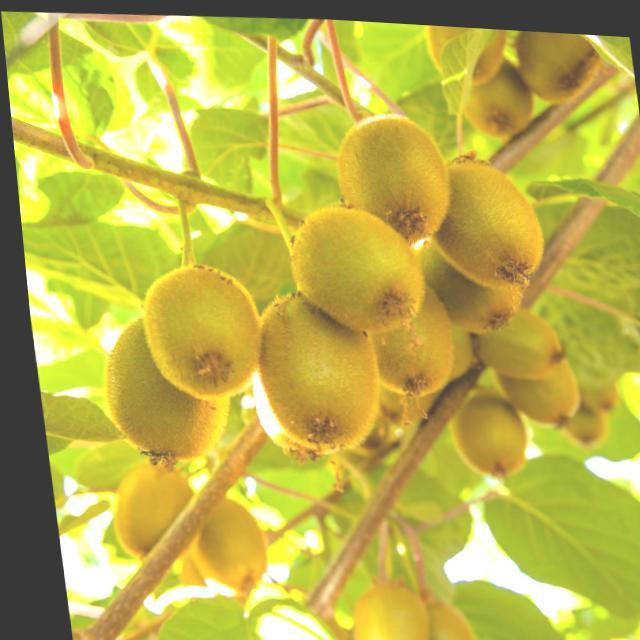kiwi: (242, 285, 378, 457), (89, 309, 229, 472), (281, 197, 423, 334), (416, 140, 547, 287), (132, 259, 262, 402), (328, 107, 453, 243), (348, 273, 457, 399), (168, 484, 261, 603), (433, 374, 526, 482), (94, 458, 190, 561), (478, 344, 579, 426), (461, 299, 563, 379), (449, 46, 536, 136), (514, 25, 604, 100), (331, 567, 421, 640), (402, 593, 466, 640)
